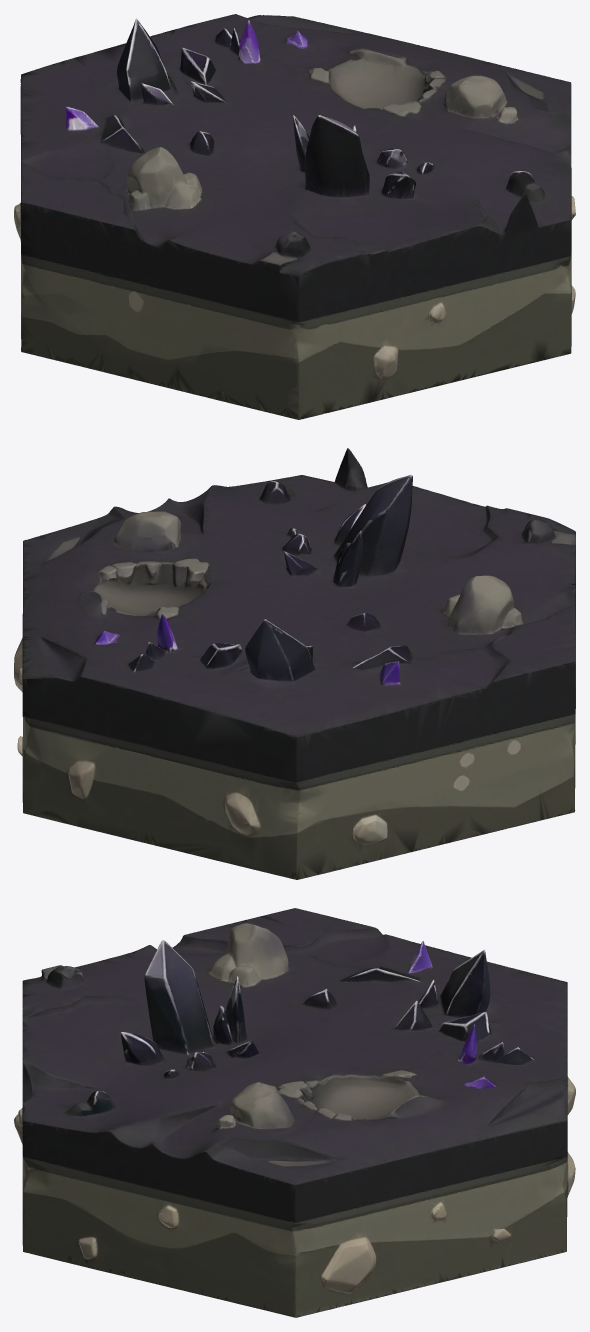
File: obsidiantile_a.glb
3 renders of one model, top to bottom at view 1: azimuth 30°, elevation 25°; view 2: azimuth 150°, elevation 25°; view 3: azimuth 270°, elevation 25°, orthographic. The views are drawn at different scales.
Bounding box in the file's own units: 1.9 × 0.7597 × 1.71.
1 material, 1 textured.
